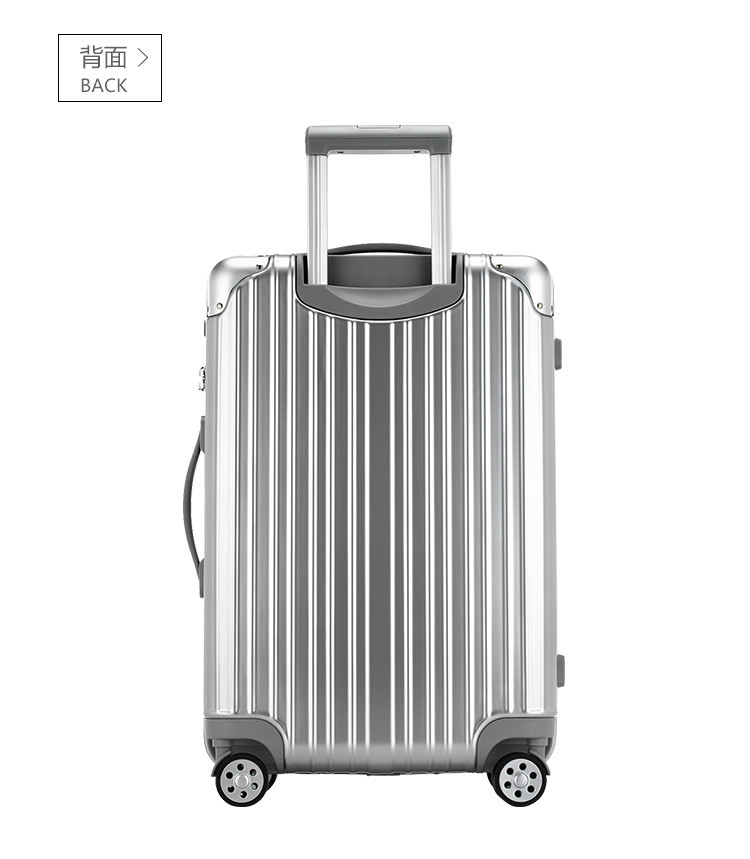luggage: (179, 123, 567, 807)
